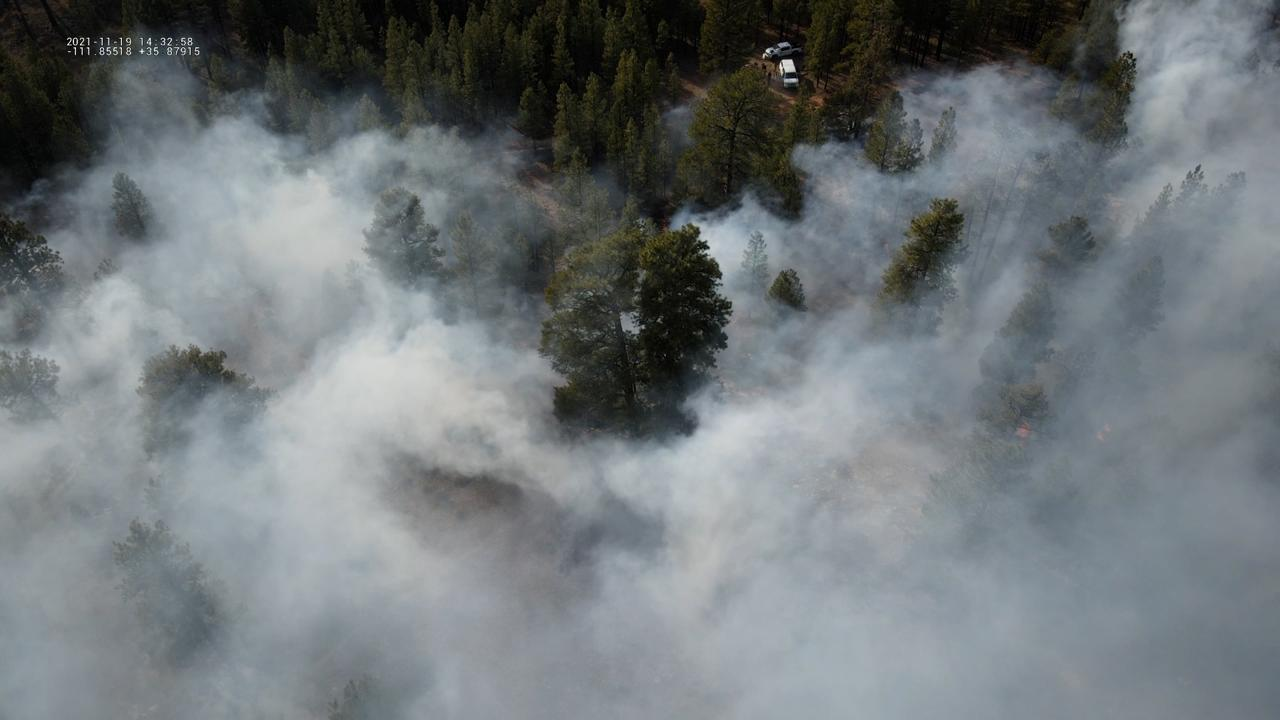fire: (1095, 422, 1113, 443), (1014, 422, 1031, 440)
smoke: (0, 0, 1280, 720)
